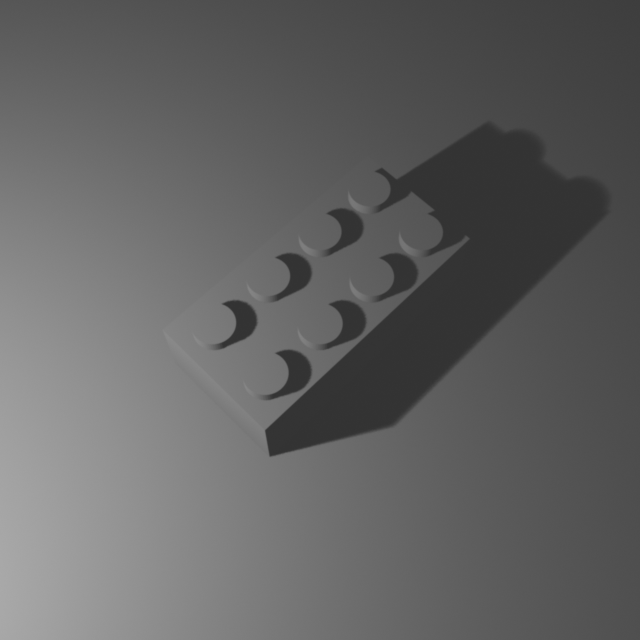lego_2x4: (160, 148, 472, 457)
